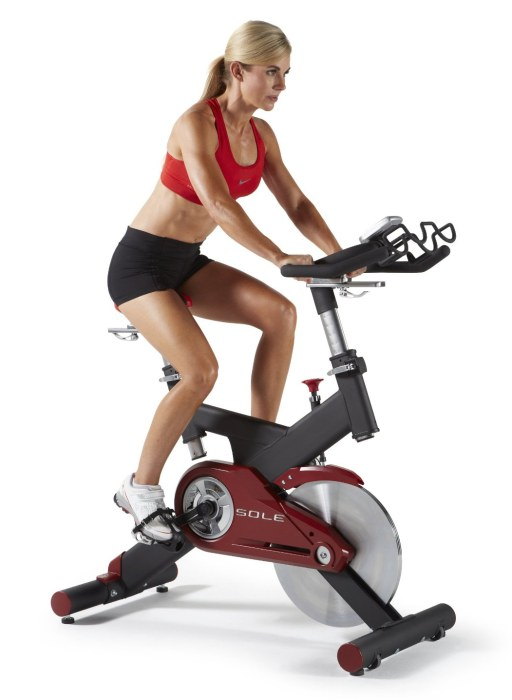gym_bike: (52, 209, 466, 678)
